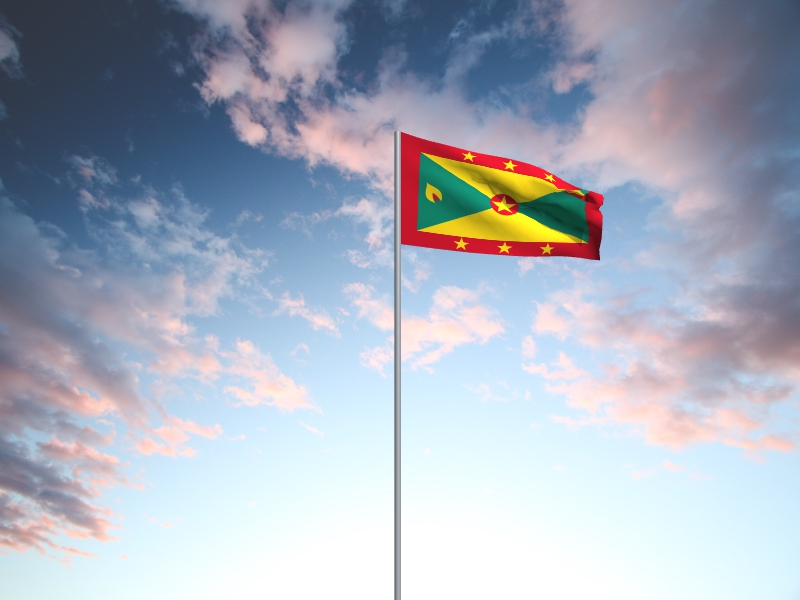gd: (402, 133, 605, 263)
